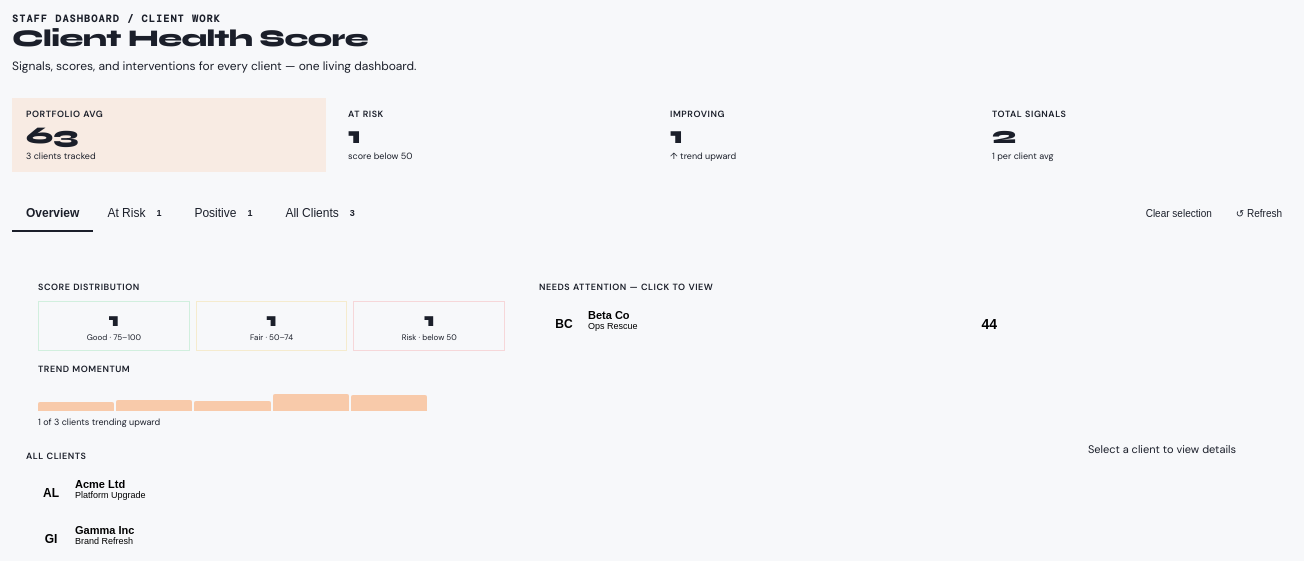
Scenario: ClientHealthPage — tab navigation › switches to At Risk tab and shows only at-risk clients
Expected: the text "Acme Ltd" is shown, [75, 478, 125, 490]
Click the button "At Risk 1" at [137, 214], box [93, 196, 180, 232]
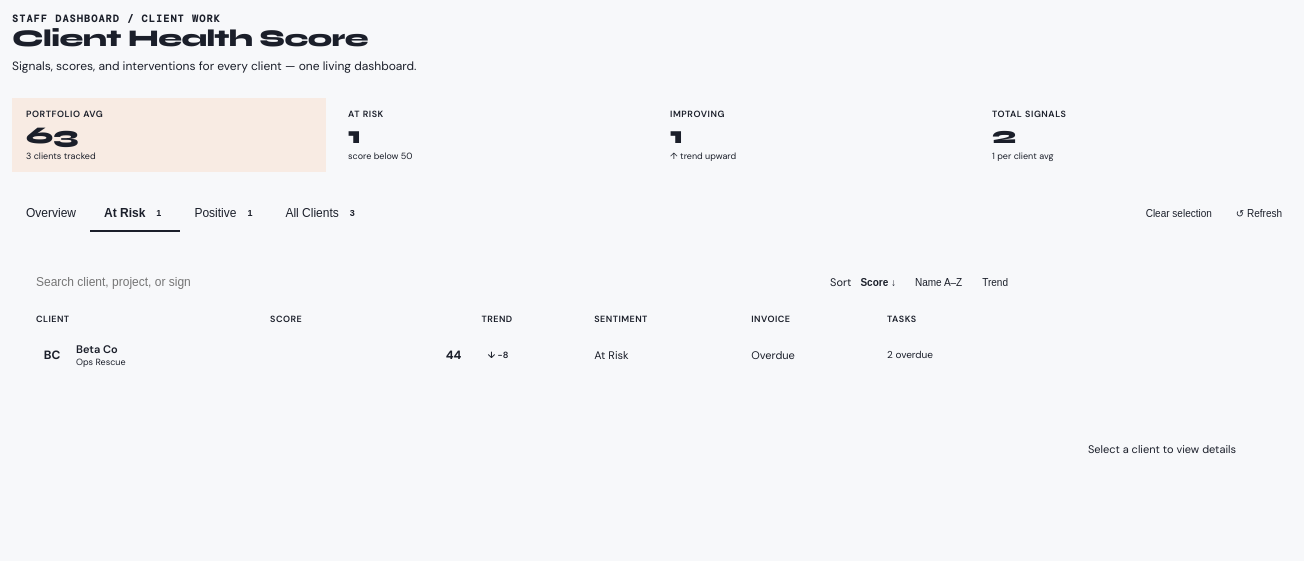
Expected: the text "Beta Co" is shown, [76, 342, 118, 356]
Result: the button "Acme Ltd" is gone
Result: the button "Gamma Inc" is gone
